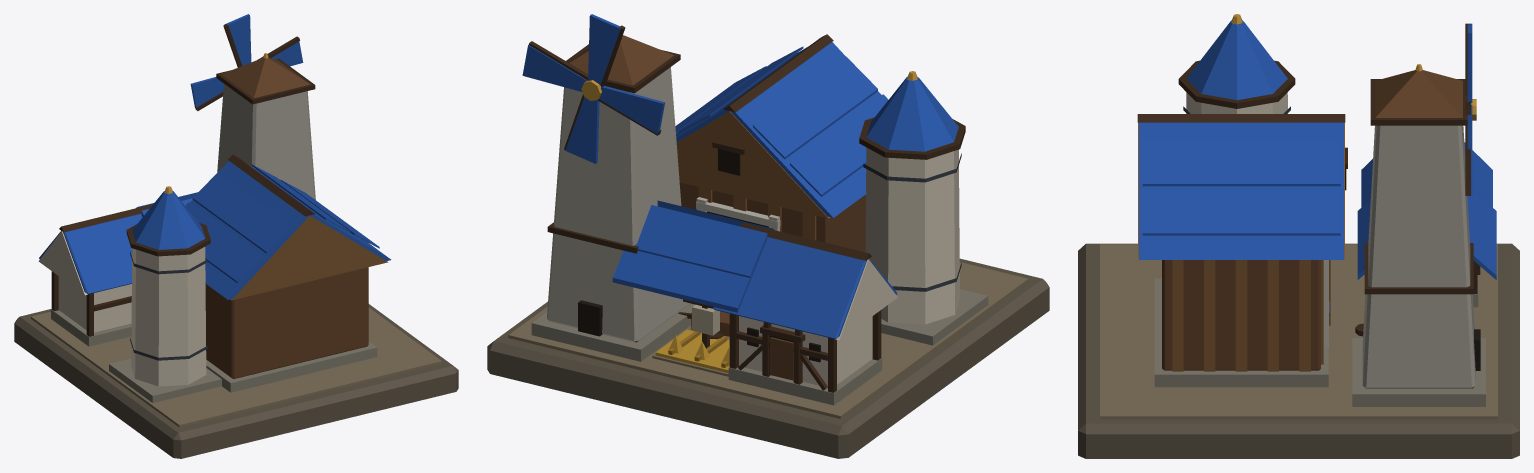
The picture shows the model from 3 angles, left to right: view 1: azimuth 30°, elevation 25°; view 2: azimuth 150°, elevation 25°; view 3: azimuth 270°, elevation 25°; orthographic projection. The views are drawn at different scales.
Parts seen in each view (by area): view 1: 农场_3星; view 2: 农场_3星; view 3: 农场_3星.
Boxes of the visible parts, x1,y1,x2,y2 form: 农场_3星: (14,14,458,458); 农场_3星: (487,14,1049,458); 农场_3星: (1078,14,1519,458).
Bounding box in the file's own units: 1 × 0.9546 × 1.
